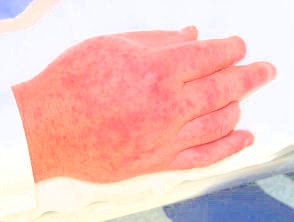SJS-TEN: (22, 23, 281, 186)
